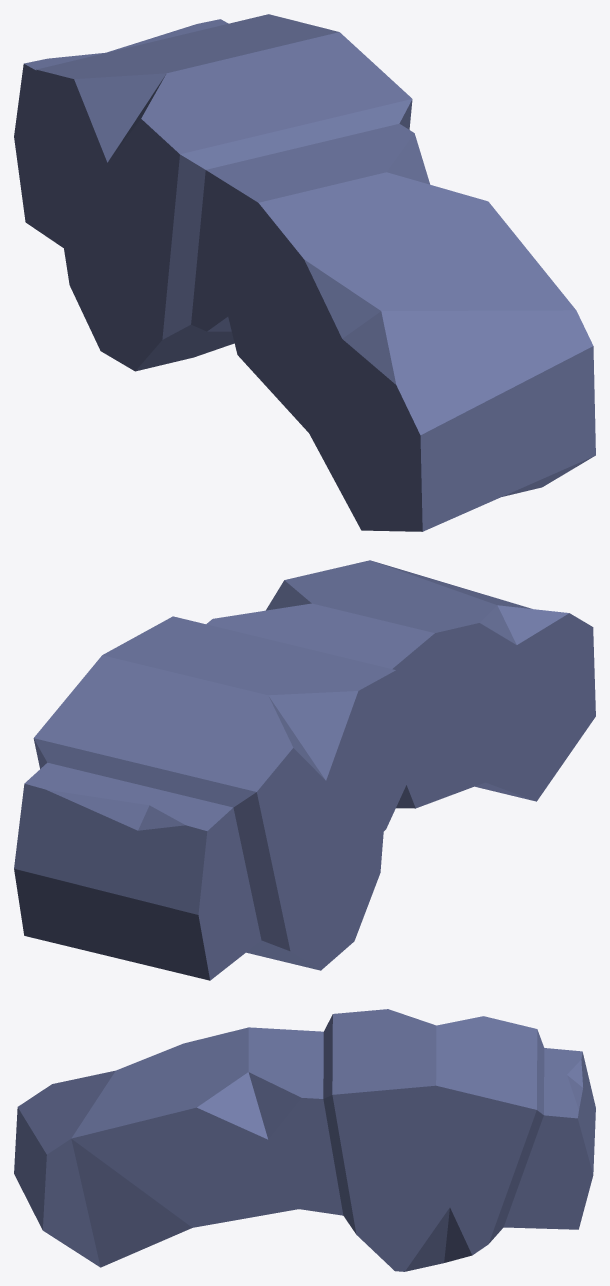
Rendered from arch_1_dstr_2.fbx.
3 renders of one model, top to bottom at view 1: azimuth 30°, elevation 25°; view 2: azimuth 150°, elevation 25°; view 3: azimuth 270°, elevation 25°, orthographic. The views are drawn at different scales.
Visible parts, largest first — view 1: arch_1_dstr_2; view 2: arch_1_dstr_2; view 3: arch_1_dstr_2.
Part boxes in pixels (x1=…): arch_1_dstr_2: x1=14, y1=14, x2=595, y2=531; arch_1_dstr_2: x1=14, y1=560, x2=595, y2=980; arch_1_dstr_2: x1=14, y1=1009, x2=595, y2=1271.
Bounding box in the file's own units: 1.73 × 1.94 × 5.26.
